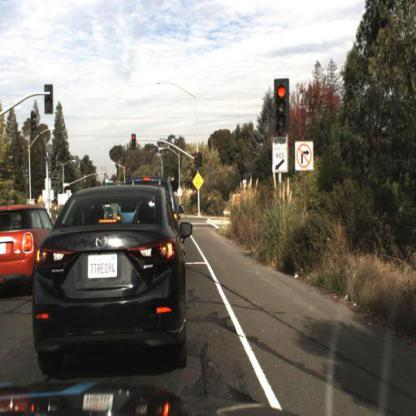car: (27, 182, 193, 371), (1, 194, 58, 301)
trafficLight-Red: (267, 62, 298, 156), (273, 79, 292, 137), (127, 127, 139, 156), (192, 148, 202, 177), (131, 133, 139, 154), (194, 152, 201, 170)
